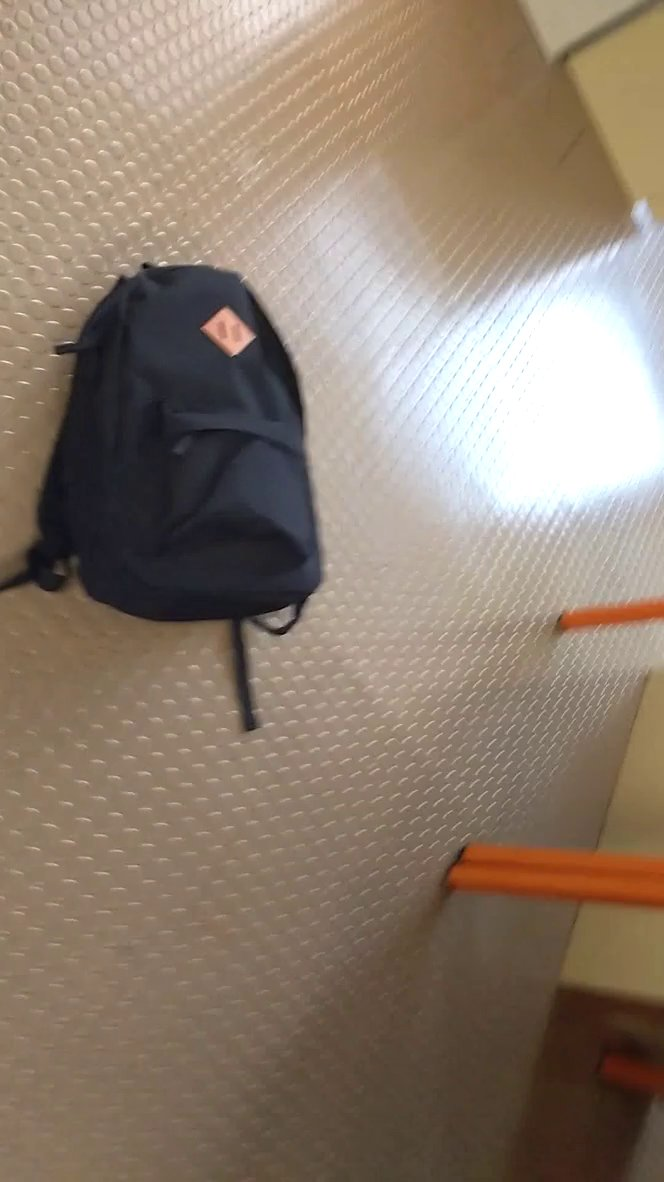bag: (1, 228, 337, 739)
